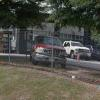Car: (26, 28, 73, 70)
